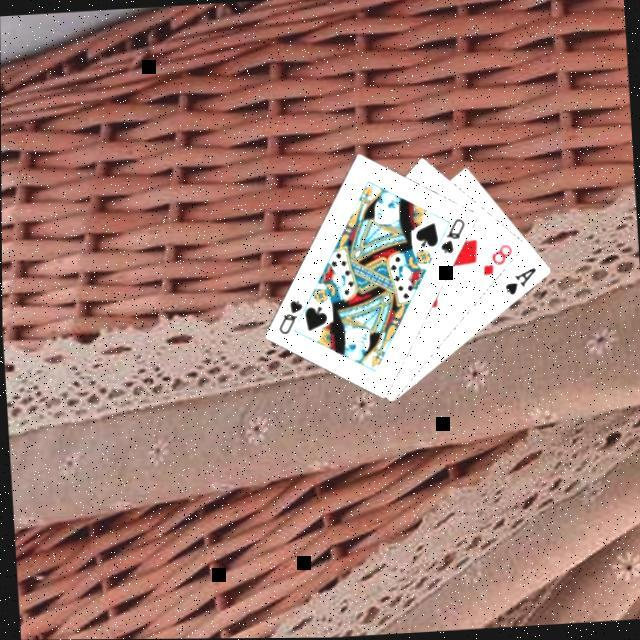8D: (476, 243, 516, 281)
AS: (500, 267, 540, 301)
QS: (435, 216, 469, 260), (273, 298, 306, 340)
